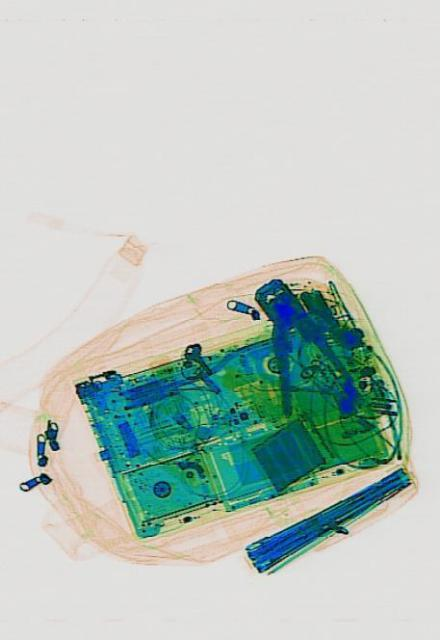Pliers: (229, 256, 352, 434)
